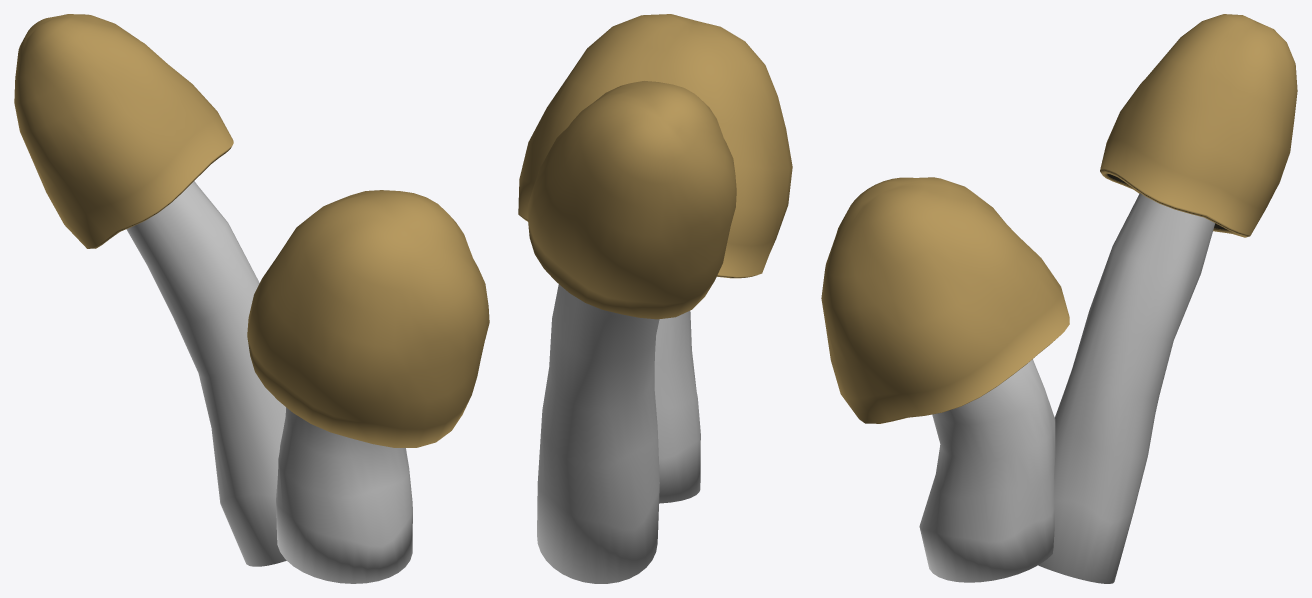
File: champi2.glb
The picture shows the model from 3 angles, left to right: view 1: azimuth 30°, elevation 25°; view 2: azimuth 150°, elevation 25°; view 3: azimuth 270°, elevation 25°; orthographic projection. The views are drawn at different scales.
Visible parts, largest first — view 1: Sphère, Sphère.001, Cylindre.001, Cylindre; view 2: Sphère.001, Cylindre.001, Sphère, Cylindre; view 3: Sphère, Cylindre.001, Sphère.001, Cylindre.
Boxes of the visible parts, x1,y1,x2,y2 form: Sphère: [247, 190, 489, 447]; Sphère.001: [14, 14, 233, 248]; Cylindre.001: [126, 181, 286, 566]; Cylindre: [276, 407, 412, 583]; Sphère.001: [528, 81, 736, 319]; Cylindre.001: [537, 284, 659, 583]; Sphère: [518, 14, 792, 278]; Cylindre: [654, 311, 700, 503]; Sphère: [821, 177, 1069, 423]; Cylindre.001: [1038, 193, 1215, 583]; Sphère.001: [1100, 14, 1297, 237]; Cylindre: [919, 359, 1055, 582].
Bounding box in the file's own units: 0.6339 × 0.9948 × 0.8599.
